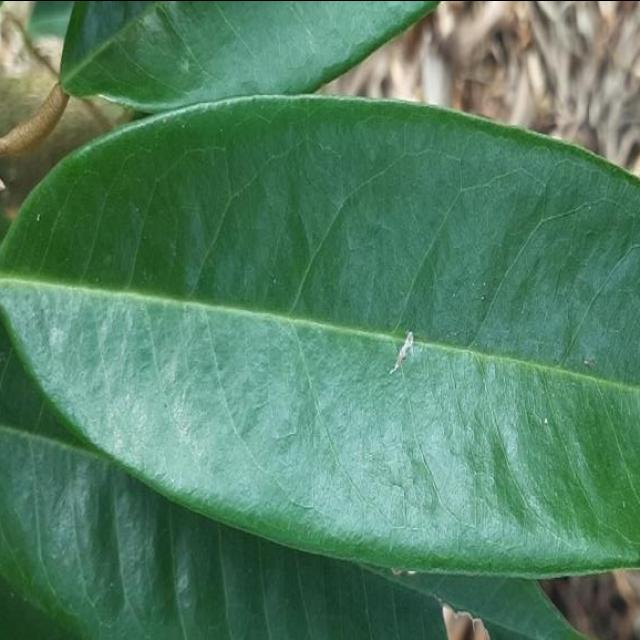No Disease: (0, 105, 640, 584)
